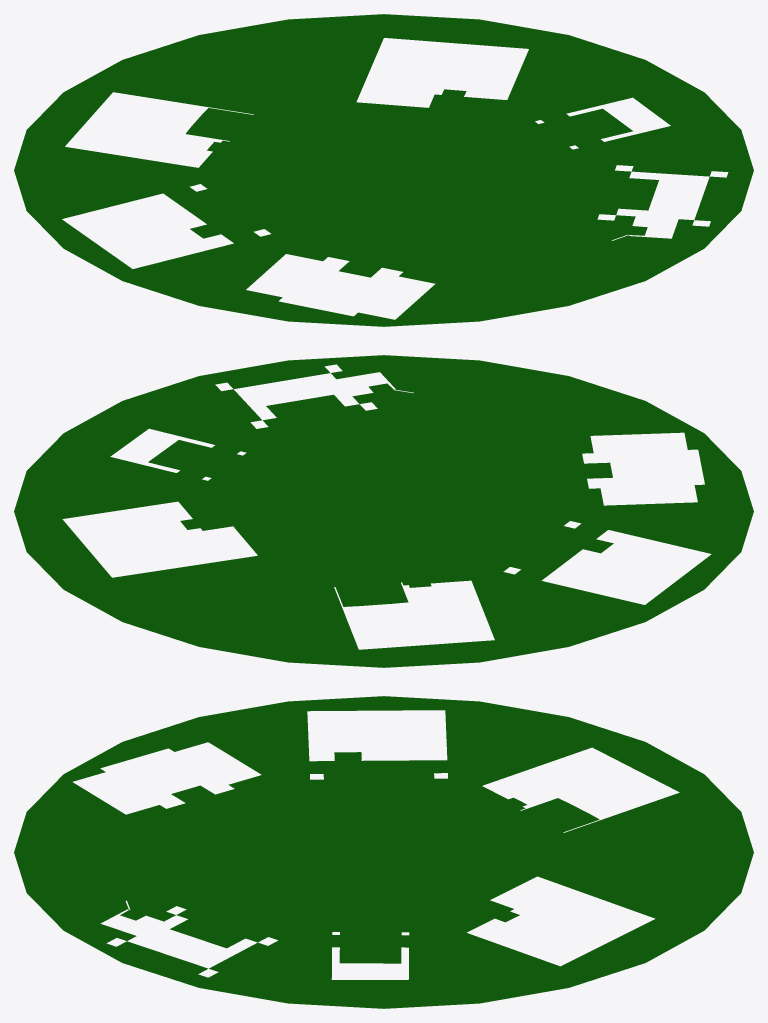
The model's file is NavMesh.glb.
3 renders of one model, top to bottom at view 1: azimuth 30°, elevation 25°; view 2: azimuth 150°, elevation 25°; view 3: azimuth 270°, elevation 25°, orthographic.
Parts seen in each view (by area): view 1: NavMesh; view 2: NavMesh; view 3: NavMesh.
Boxes of the visible parts, <box> form: NavMesh: <box>14,14,753,326</box>; NavMesh: <box>14,355,753,667</box>; NavMesh: <box>14,696,753,1008</box>.
Bounding box in the file's own units: 39.18 × 8.7e-15 × 39.18.
